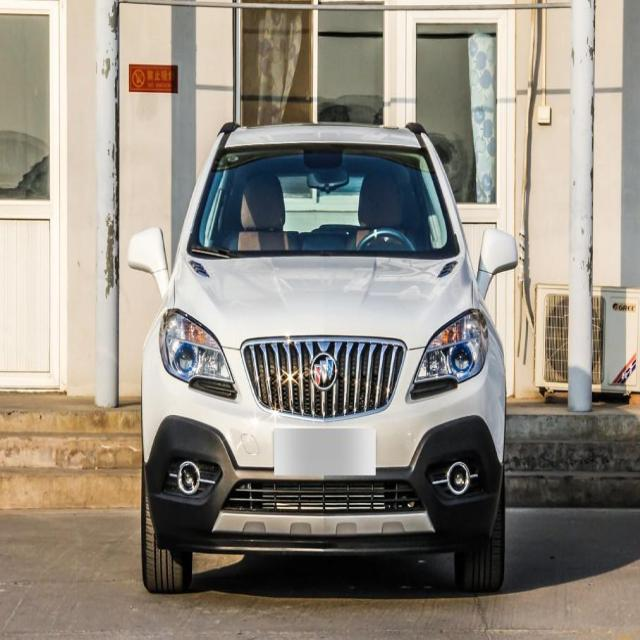front_bumper: (135, 408, 518, 551)
front_glass: (185, 123, 468, 264)
front_left_side_light: (405, 308, 498, 410)
front_left_side_mirror: (473, 219, 528, 290)
front_right_side_light: (152, 306, 243, 413)
front_right_side_mirror: (124, 225, 172, 291)
